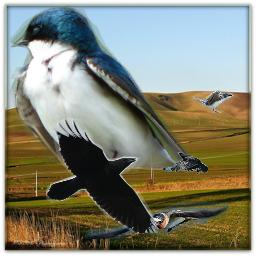Crow: (46, 117, 159, 233), (161, 152, 208, 175)
Swallow: (10, 4, 199, 196), (85, 202, 229, 239), (191, 90, 234, 113)
